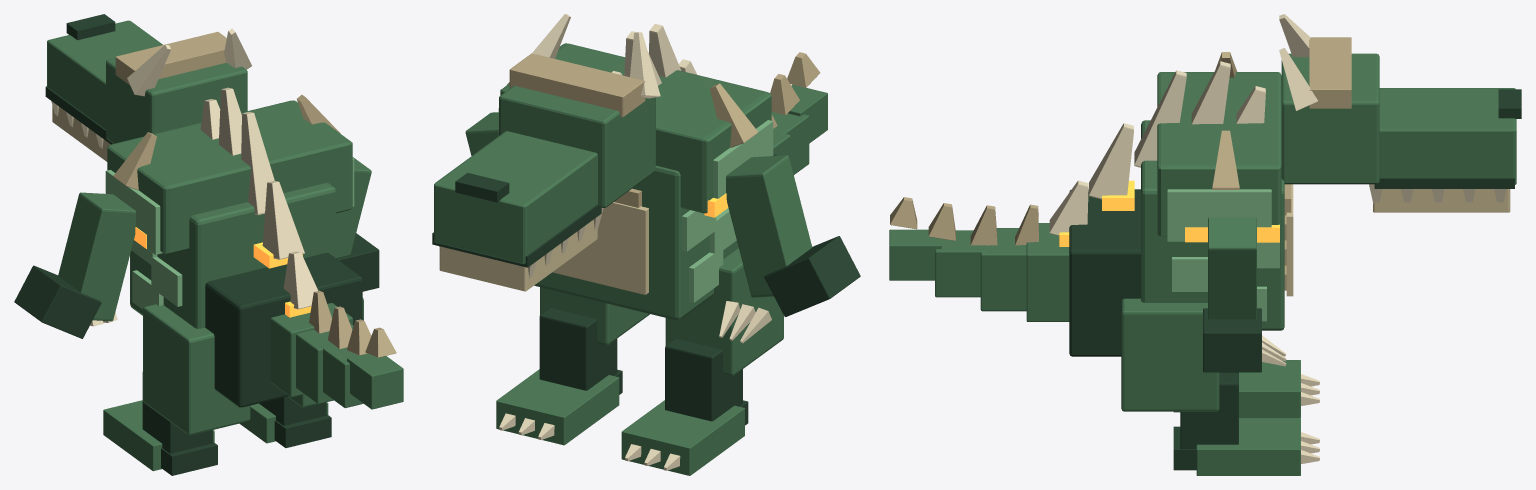
File: crocodon.glb
3 renders of one model, left to right at view 1: azimuth 30°, elevation 25°; view 2: azimuth 150°, elevation 25°; view 3: azimuth 270°, elevation 25°, orthographic. The views are drawn at different scales.
Parts seen in each view (by area): view 1: body, head, leg.FR, tail, arm.R, leg.FL, arm.L; view 2: head, body, leg.FR, arm.R, leg.FL, tail, arm.L; view 3: body, head, leg.FL, tail, arm.L, leg.FR.
Boxes of the visible parts, x1,y1,x2,y2 form: body: (105, 87, 362, 407); head: (45, 14, 251, 161); leg.FR: (103, 304, 250, 475); tail: (270, 290, 403, 409); arm.R: (14, 192, 135, 338); leg.FL: (239, 298, 363, 447); arm.L: (336, 157, 379, 291); head: (432, 14, 660, 291); body: (498, 24, 776, 320); leg.FR: (621, 248, 783, 475); arm.R: (719, 155, 860, 343); leg.FL: (496, 287, 649, 445); tail: (770, 52, 827, 174); arm.L: (465, 112, 498, 155); body: (1049, 52, 1293, 356); head: (1279, 14, 1521, 212); leg.FL: (1121, 298, 1319, 475); tail: (889, 197, 1069, 321); arm.L: (1203, 217, 1286, 372); leg.FR: (1174, 360, 1319, 417).
Bounding box in the file's own units: 0.9231 × 1 × 1.43.
